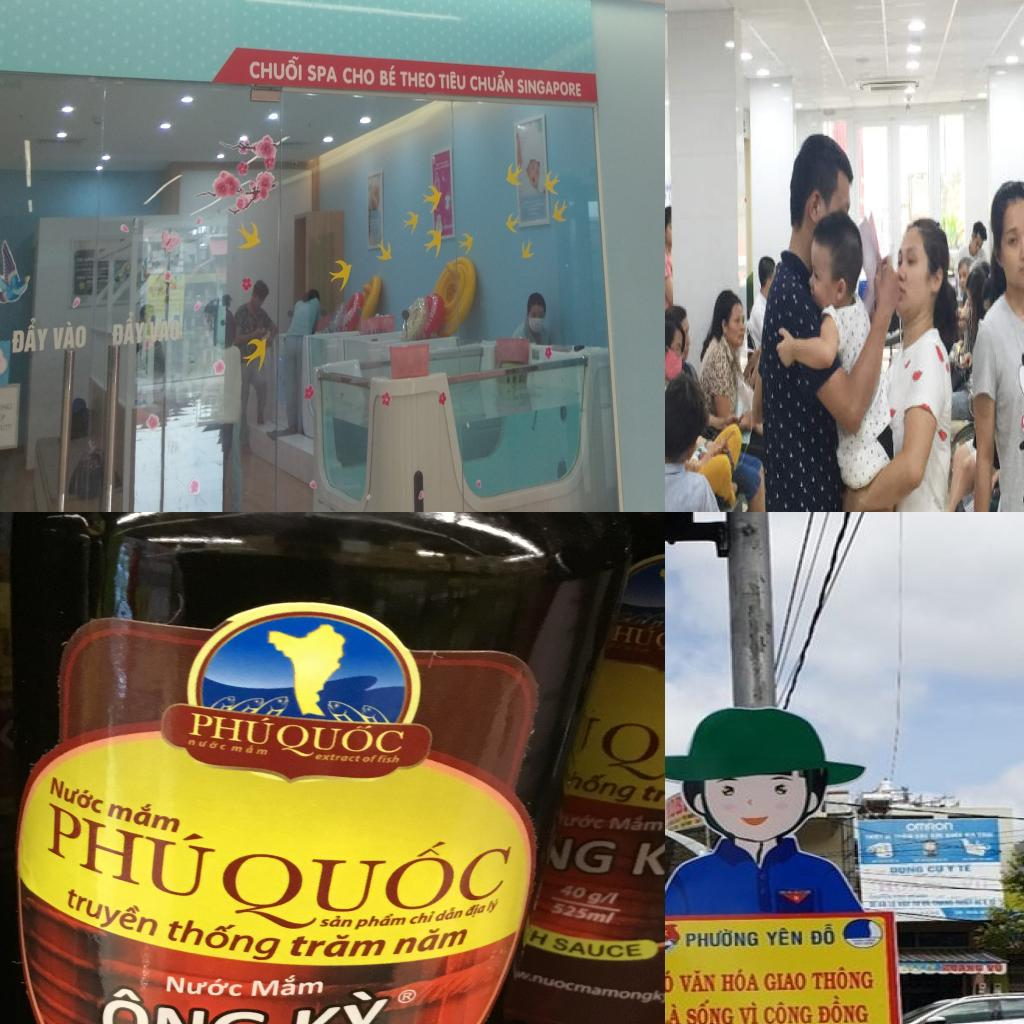text: (232, 838, 516, 910), (50, 797, 226, 901), (109, 983, 271, 1024), (163, 914, 284, 964), (280, 717, 409, 756), (71, 885, 162, 939), (282, 988, 394, 1024), (186, 706, 276, 749), (608, 717, 665, 774), (565, 767, 641, 804), (106, 798, 184, 834), (46, 774, 107, 817), (286, 934, 390, 959), (392, 924, 468, 955), (569, 836, 620, 877), (163, 974, 244, 998), (684, 927, 762, 951), (808, 966, 877, 992), (250, 974, 324, 998), (814, 994, 871, 1024), (8, 314, 49, 355), (515, 74, 583, 98), (630, 832, 665, 878), (246, 54, 305, 81), (685, 998, 736, 1024), (762, 999, 814, 1024), (50, 318, 90, 350), (110, 310, 145, 346), (468, 70, 516, 96), (146, 311, 182, 345), (608, 622, 656, 647), (606, 814, 665, 833), (676, 968, 718, 994), (720, 968, 762, 994), (351, 913, 409, 931), (763, 971, 810, 993), (763, 926, 807, 948), (401, 64, 436, 90), (561, 811, 606, 831), (549, 901, 591, 921), (307, 59, 338, 86), (342, 64, 376, 88), (435, 69, 466, 95), (184, 736, 230, 752), (638, 782, 665, 809), (810, 922, 838, 947), (556, 882, 588, 902), (585, 907, 618, 926), (0, 717, 16, 756), (736, 1000, 761, 1024), (228, 742, 270, 756), (377, 62, 399, 88), (905, 822, 956, 832), (318, 914, 354, 928), (435, 905, 464, 922), (314, 753, 362, 763), (888, 865, 926, 876), (409, 910, 436, 925), (465, 902, 487, 920), (528, 928, 550, 946), (665, 1003, 683, 1024), (665, 968, 676, 995), (484, 898, 501, 915), (950, 964, 986, 972), (584, 891, 603, 906), (376, 755, 402, 764), (598, 891, 613, 905), (0, 420, 13, 436), (606, 891, 620, 905), (361, 754, 379, 764), (927, 864, 945, 874), (955, 864, 973, 874), (987, 963, 1004, 973), (400, 990, 414, 1002), (0, 400, 13, 412), (945, 864, 956, 874), (0, 410, 8, 420)
